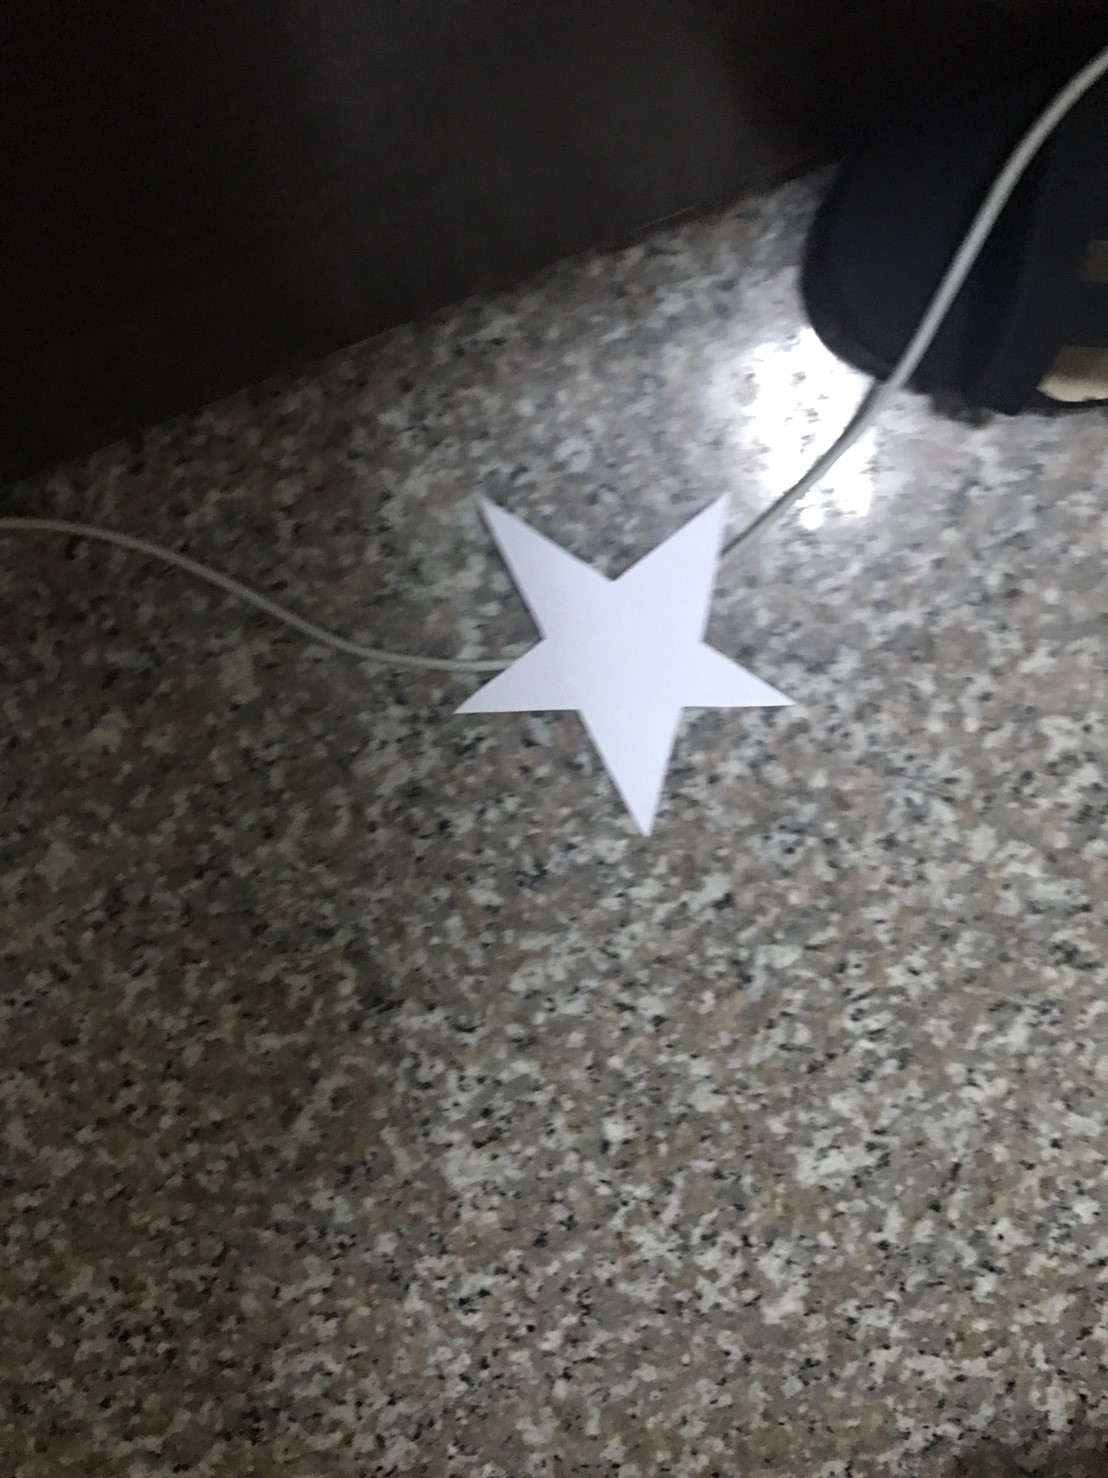star: (448, 468, 862, 881)
